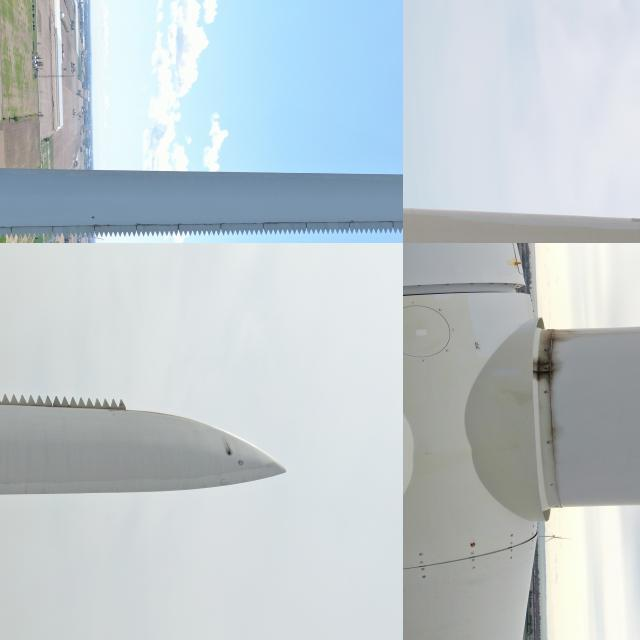damage: (526, 326, 612, 386), (252, 216, 288, 227), (91, 218, 119, 230), (134, 218, 164, 227), (343, 218, 358, 224), (378, 219, 398, 223), (224, 448, 234, 454), (0, 224, 11, 229)
